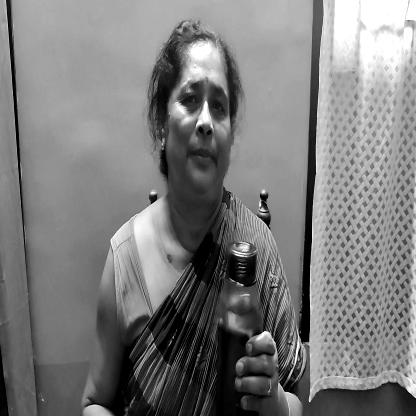Normal: (153, 30, 242, 209)
